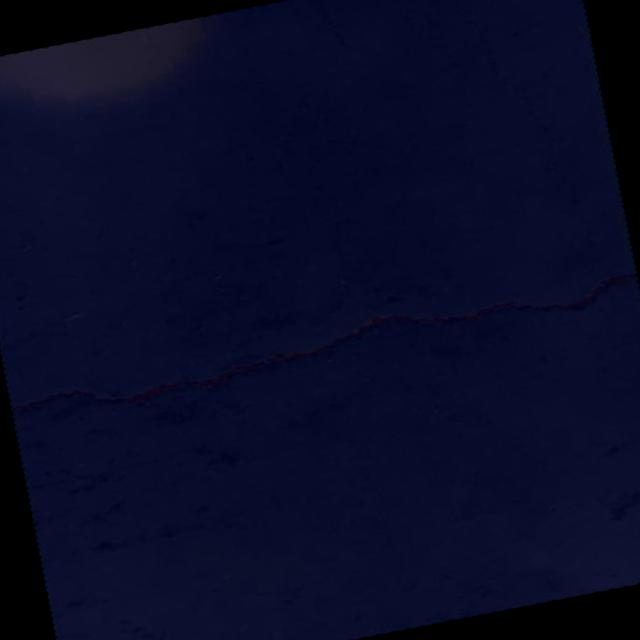crack: (7, 266, 640, 439), (560, 172, 594, 250), (528, 104, 556, 160), (471, 18, 496, 77), (590, 262, 598, 280)
